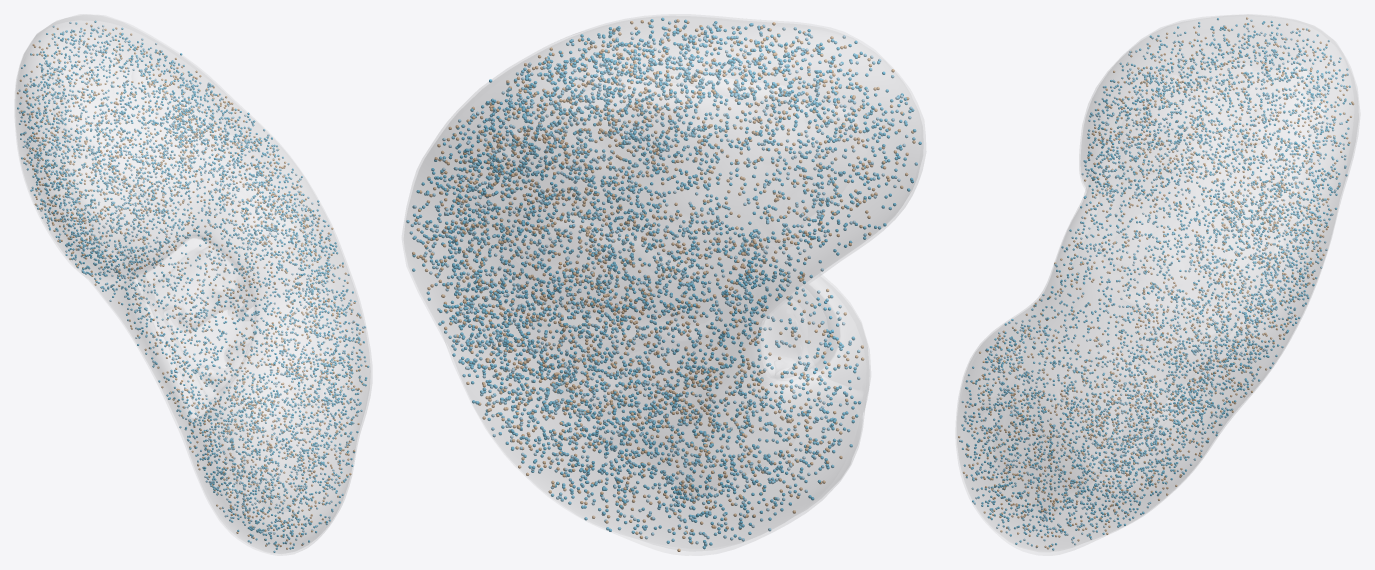
The model's file is 3d-vh-m-kidney-l-UBERON_0004538-all-as-azimuth-sphere-hra-pop.glb.
3 renders of one model, left to right at view 1: azimuth 30°, elevation 25°; view 2: azimuth 150°, elevation 25°; view 3: azimuth 270°, elevation 25°, orthographic. The views are drawn at different scales.
Visible parts, largest first — view 1: VH_M_kidney_capsule_L, VH_M_outer_cortex_of_kidney_L, VH_M_hilum_of_kidney_L, VH_M_renal_column_L, VH_M_renal_pyramid_L_f; view 2: VH_M_kidney_capsule_L, VH_M_outer_cortex_of_kidney_L, VH_M_hilum_of_kidney_L; view 3: VH_M_kidney_capsule_L, VH_M_outer_cortex_of_kidney_L.
Part boxes in pixels (left/top/right/bottom): VH_M_kidney_capsule_L: left=15, top=14, right=371, bottom=555; VH_M_outer_cortex_of_kidney_L: left=17, top=21, right=368, bottom=553; VH_M_hilum_of_kidney_L: left=137, top=237, right=247, bottom=415; VH_M_renal_column_L: left=168, top=239, right=252, bottom=376; VH_M_renal_pyramid_L_f: left=141, top=278, right=252, bottom=332; VH_M_kidney_capsule_L: left=402, top=14, right=925, bottom=555; VH_M_outer_cortex_of_kidney_L: left=405, top=18, right=920, bottom=547; VH_M_hilum_of_kidney_L: left=762, top=288, right=828, bottom=379; VH_M_kidney_capsule_L: left=956, top=14, right=1359, bottom=555; VH_M_outer_cortex_of_kidney_L: left=957, top=17, right=1353, bottom=549.
Size of the model in its own units: 0.0757 by 0.1065 by 0.0824.
